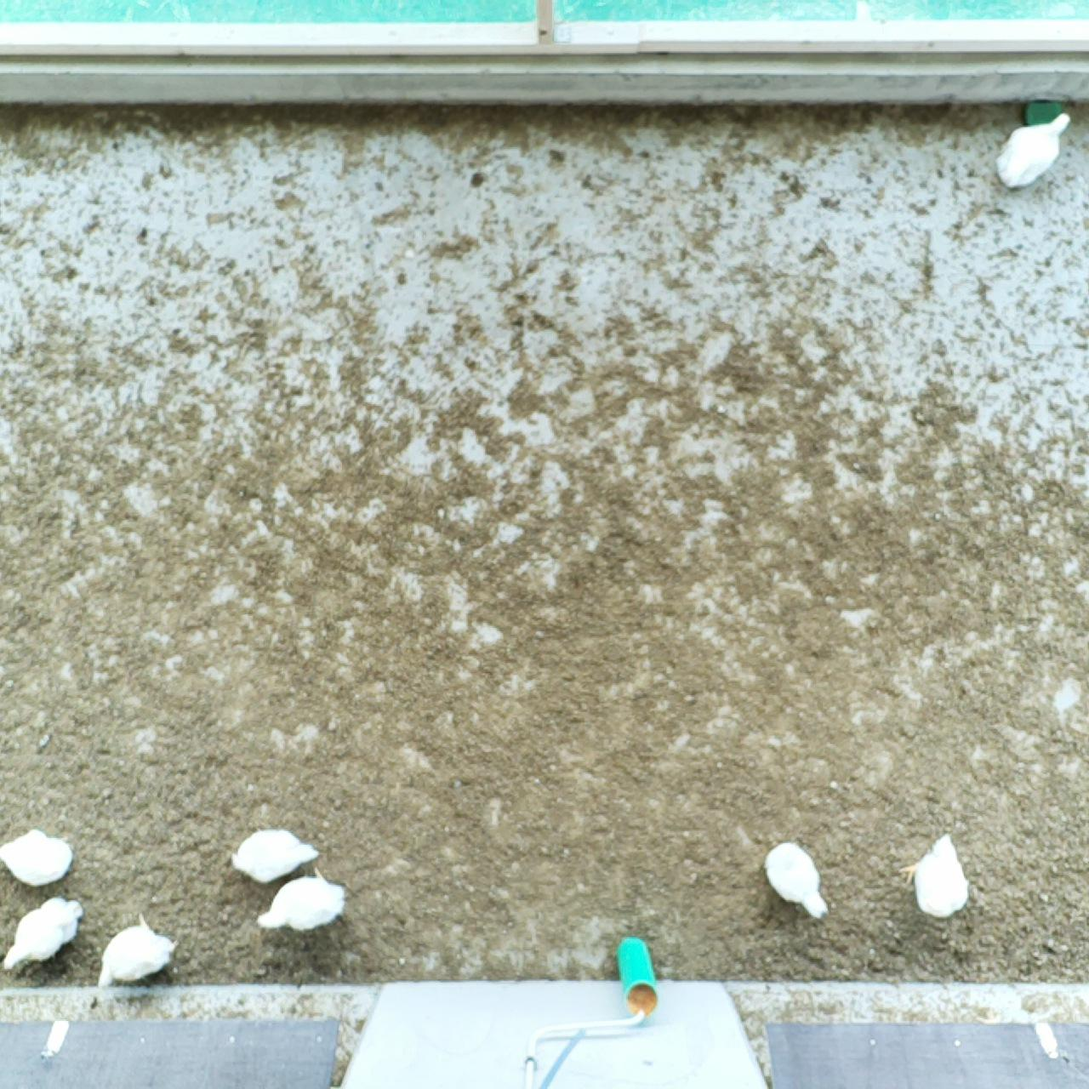chicken: (92, 908, 181, 991), (990, 110, 1077, 194), (897, 830, 975, 922), (0, 894, 87, 973), (252, 865, 348, 936), (761, 838, 832, 924), (226, 824, 322, 884), (0, 826, 74, 889)
